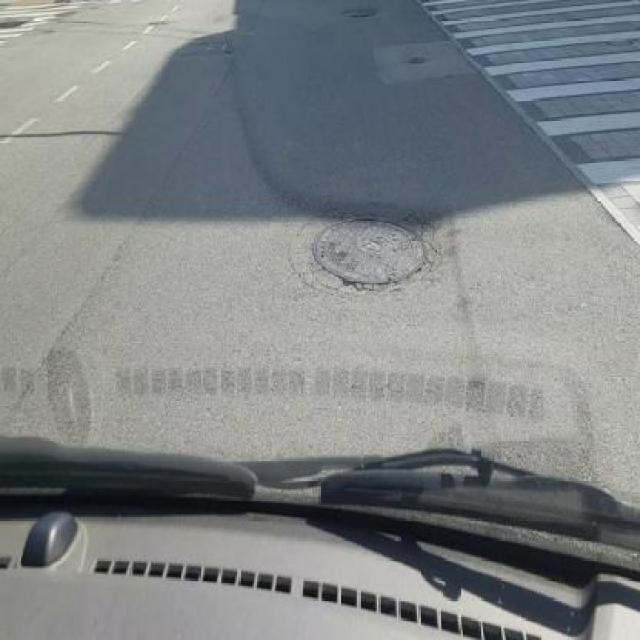Manhole: (312, 216, 437, 292), (174, 30, 247, 60), (339, 7, 392, 24), (408, 52, 428, 68)
